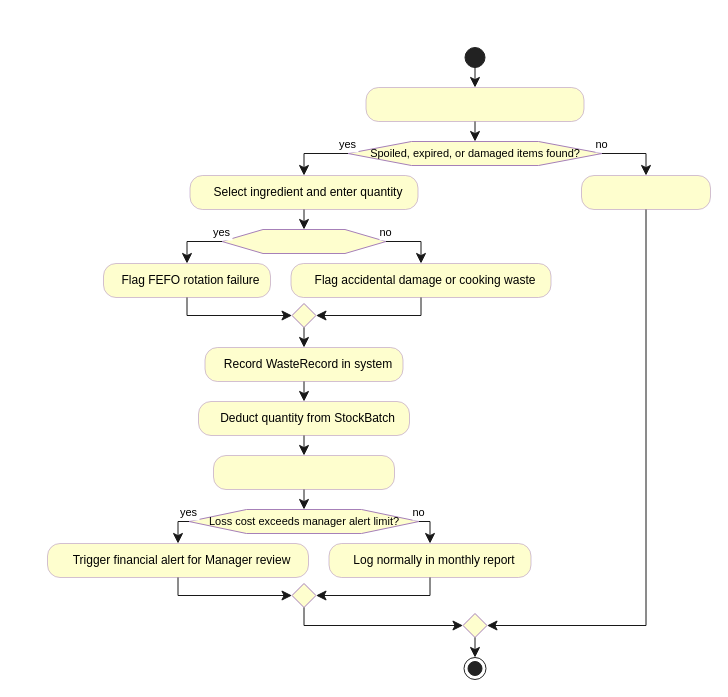
Some shapes in this 728 by 697 pixel diagram are drawn without their labels. Each missing label, with the centre of its shape:
Calculate financial loss cost: (303,472)
No waste recorded: (645,192)
Reason is Expiration date?: (303,241)
Staff inspects storage and kitchen: (474,104)
